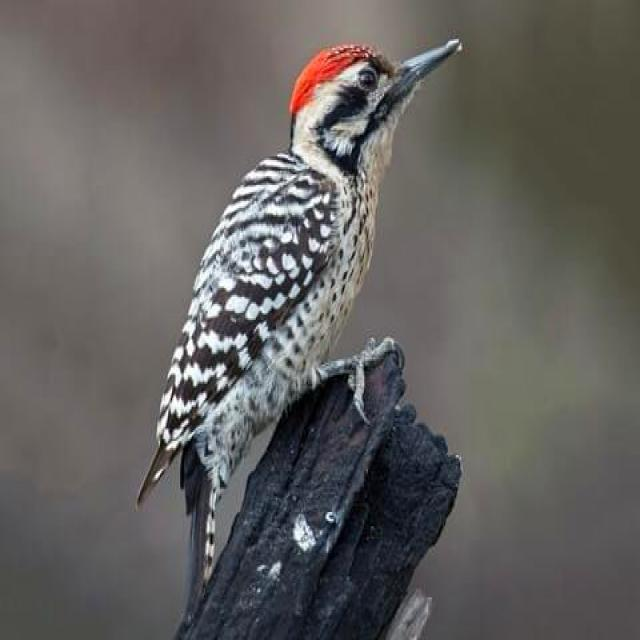woodpecker: (137, 39, 460, 617)
